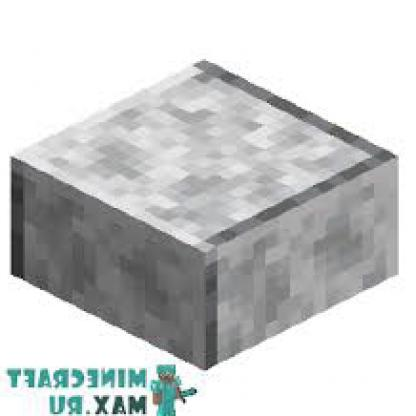Igneous_Diorite: (2, 44, 412, 368)
